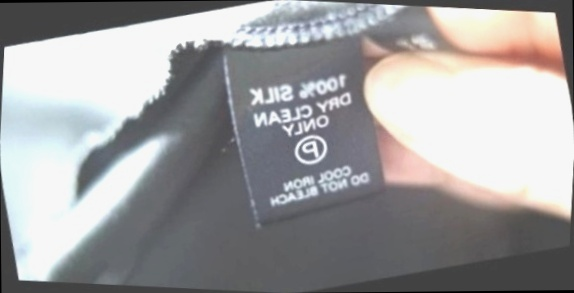dry_clean_any_solvent_except_trichloroethylene: (285, 126, 335, 173)
